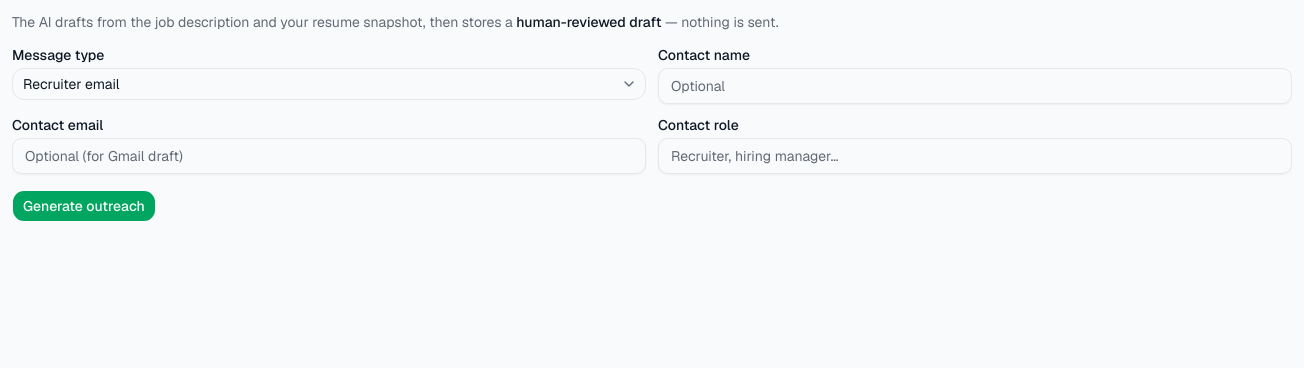
Test: warns when a LinkedIn connection note is over 300 characters
Click the dropdown named "message type" at [71, 84], box [12,68,646,100]
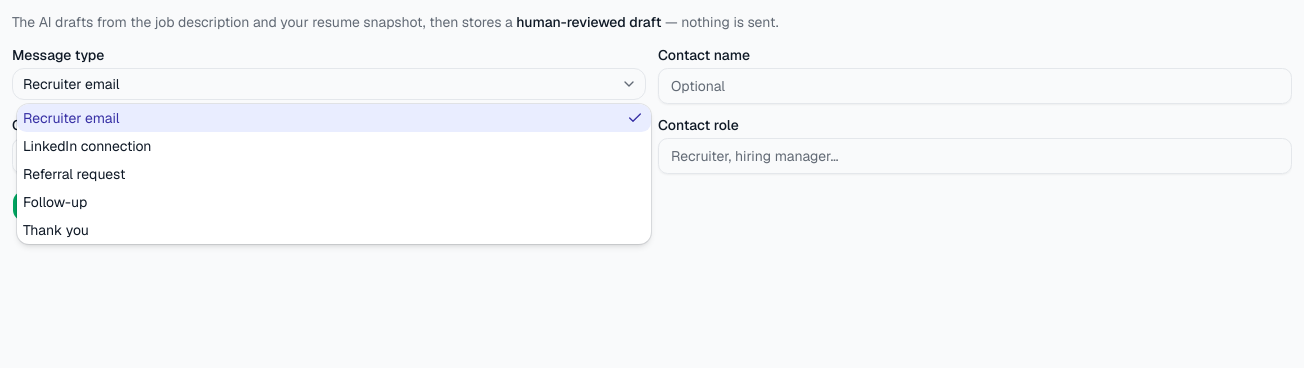
Click the option "LinkedIn connection" at [87, 146], box [23,137,152,155]
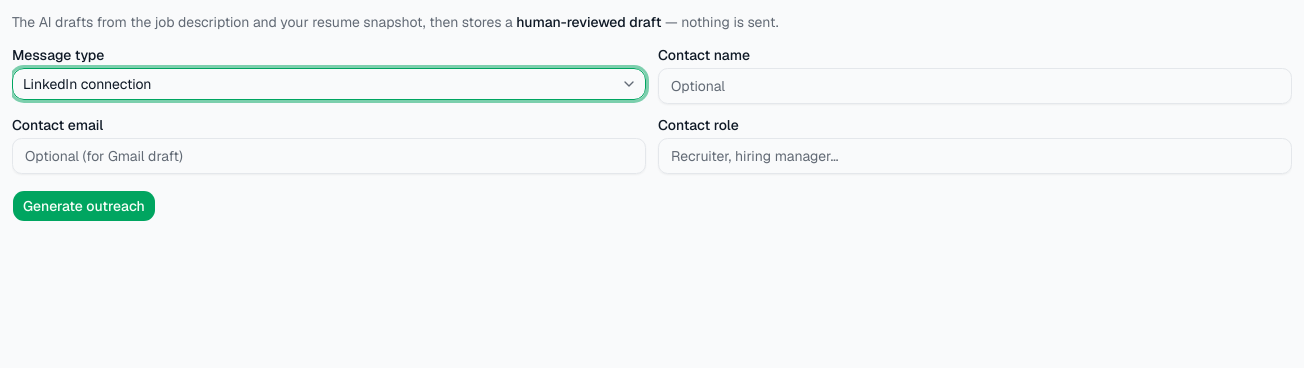
Click the button "Generate outreach" at [84, 206], box [12,190,156,222]
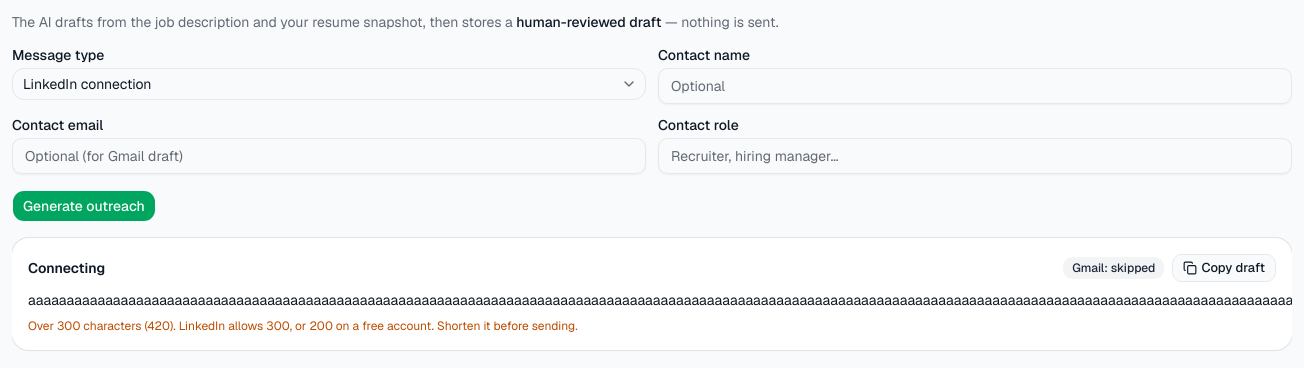
Check: the text "Over 300 characters" is shown, box [28,318,578,334]
